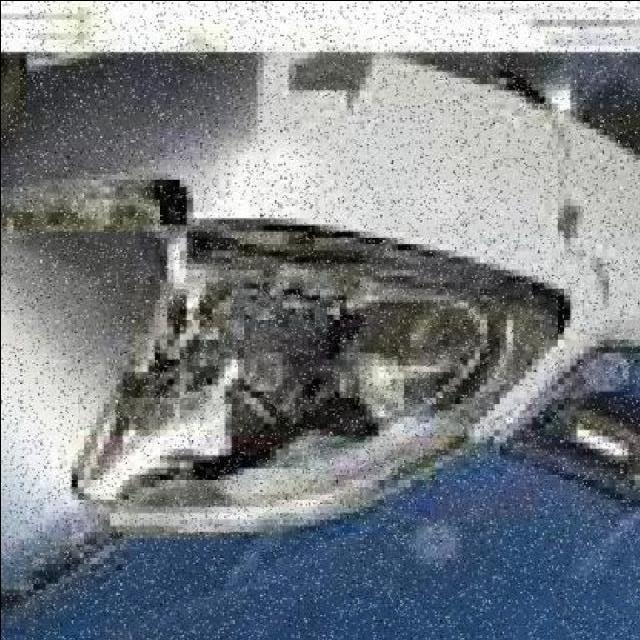Headlight-Damage: (58, 198, 577, 569)
